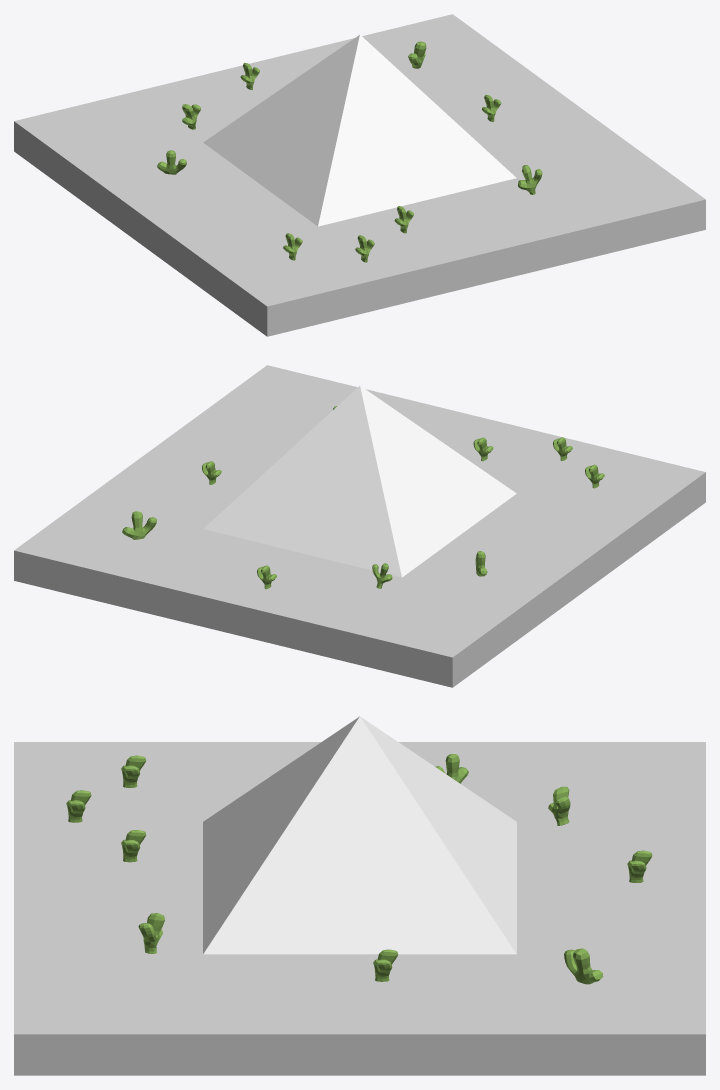
Rendered from Diorama 5.glb.
3 renders of one model, top to bottom at view 1: azimuth 30°, elevation 25°; view 2: azimuth 150°, elevation 25°; view 3: azimuth 270°, elevation 25°, orthographic. The views are drawn at different scales.
Visible parts, largest first — view 1: Plano, Pyramid (Procedural); view 2: Plano, Pyramid (Procedural), Low Poly stylized cactus.007; view 3: Plano, Pyramid (Procedural), Low Poly stylized cactus.007, Low Poly stylized cactus.002, Low Poly stylized cactus.006, Low Poly stylized cactus.004, Low Poly stylized cactus.008, Low Poly stylized cactus.005, Low Poly stylized cactus.
Part boxes in pixels (<box>): Plano: <box>14,14,705,336</box>; Pyramid (Procedural): <box>203,35,516,226</box>; Plano: <box>14,365,705,687</box>; Pyramid (Procedural): <box>203,386,516,577</box>; Low Poly stylized cactus.007: <box>122,511,156,539</box>; Plano: <box>14,742,705,1075</box>; Pyramid (Procedural): <box>203,716,516,954</box>; Low Poly stylized cactus.007: <box>564,948,603,984</box>; Low Poly stylized cactus.002: <box>138,913,164,953</box>; Low Poly stylized cactus.006: <box>548,786,570,825</box>; Low Poly stylized cactus.004: <box>66,790,91,822</box>; Low Poly stylized cactus.008: <box>373,949,398,981</box>; Low Poly stylized cactus.005: <box>627,850,652,882</box>; Low Poly stylized cactus: <box>121,755,146,787</box>.
Bounding box in the file's own units: 26.4 × 8.97 × 26.4.
